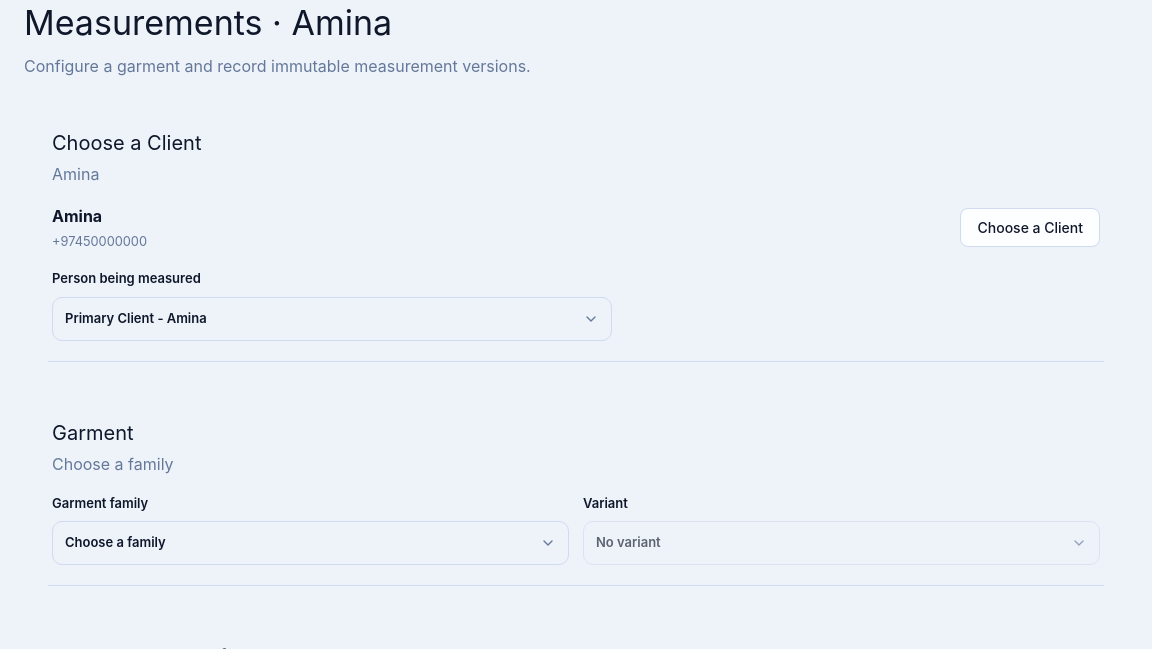
Client Measurement workflow › requires a user-selected unit before it saves a measurement version
Click the button with aria-label "Garment family" at [115, 542], box [52,521,569,565]
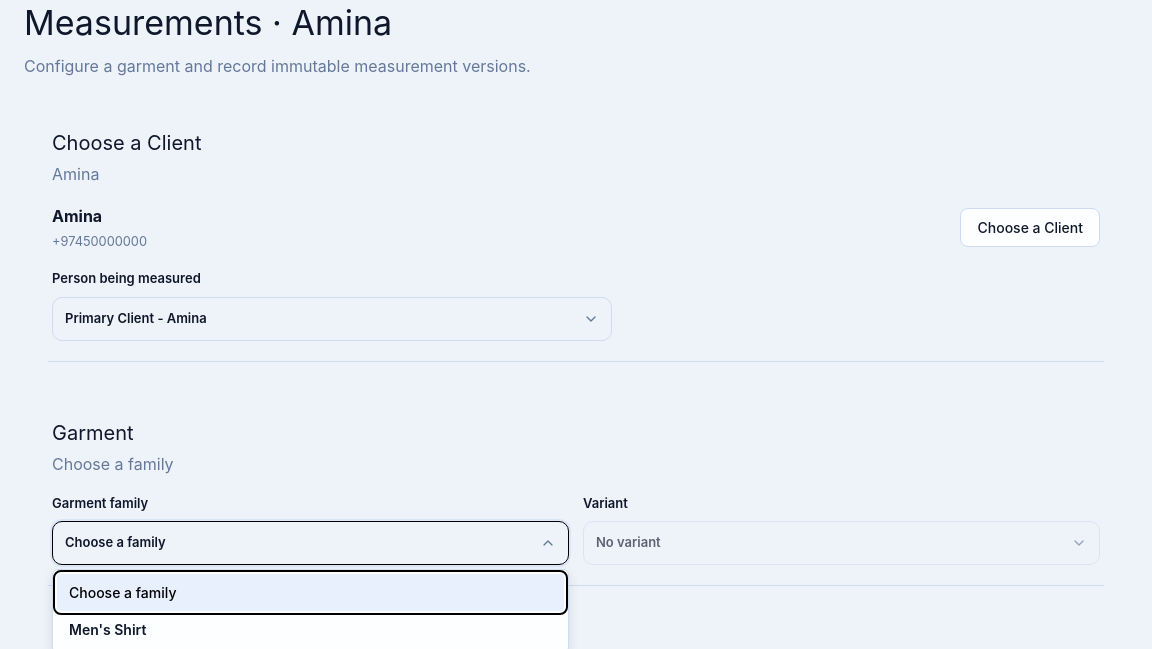
Click the option "Men's Shirt" at [108, 630], box [57,611,564,648]
(page scrolled)
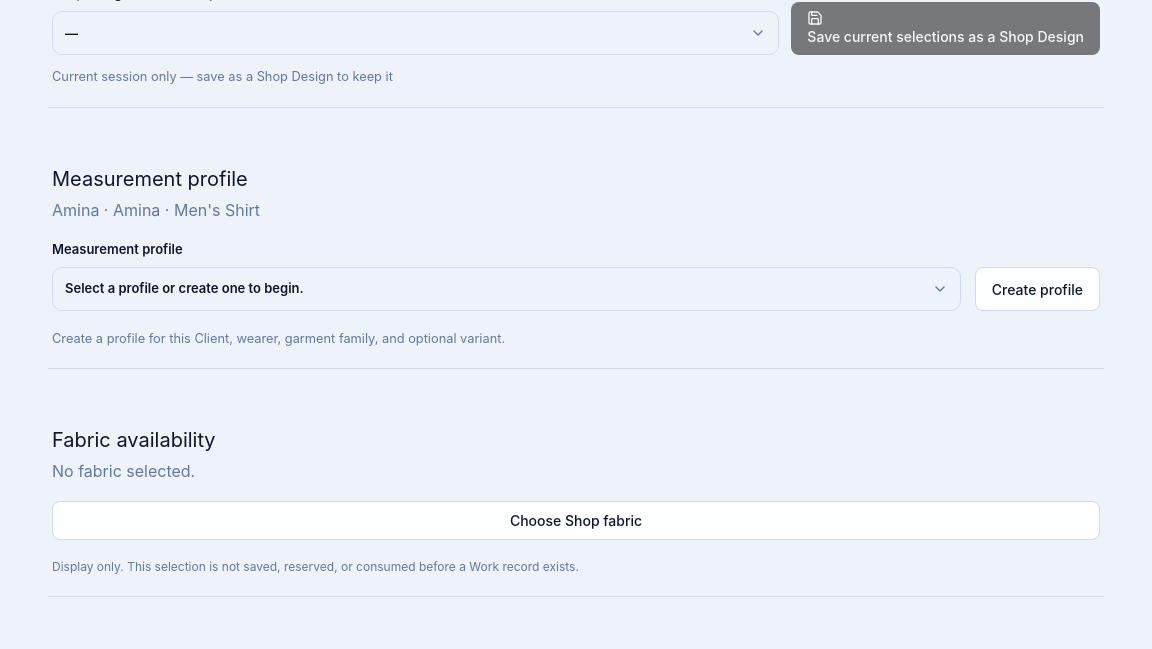
Click the button "Create profile" at [1037, 289], box [975,267,1100,311]
(page scrolled)
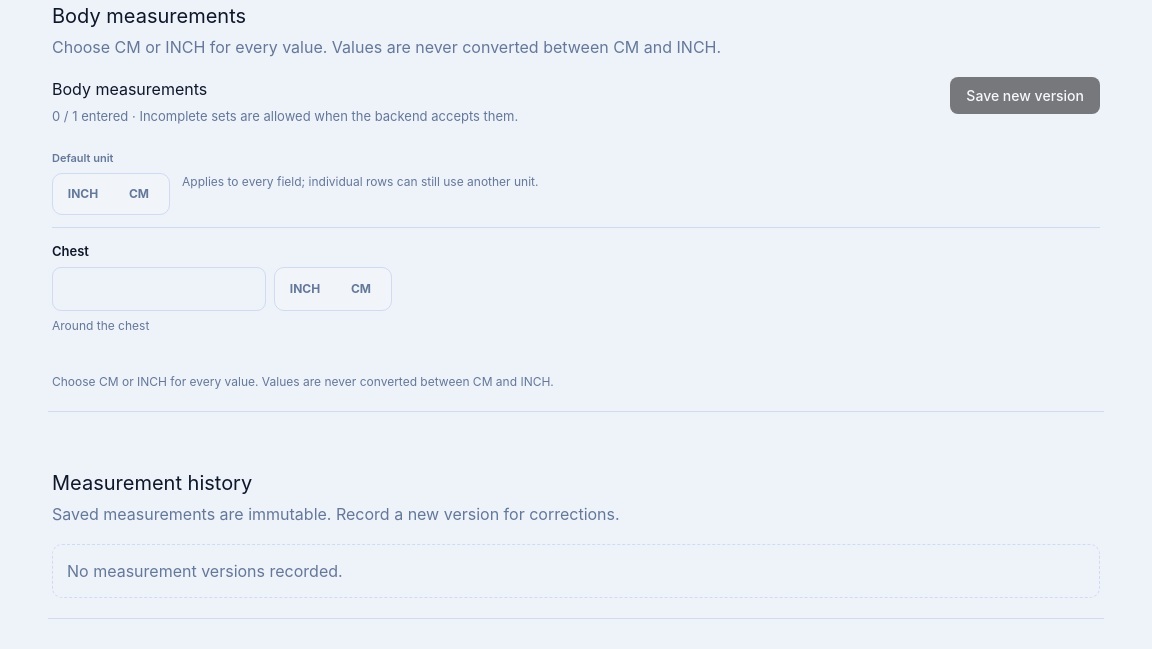
Type "61.2500" into the field labelled "Chest" at [159, 289], box [52,267,266,311]
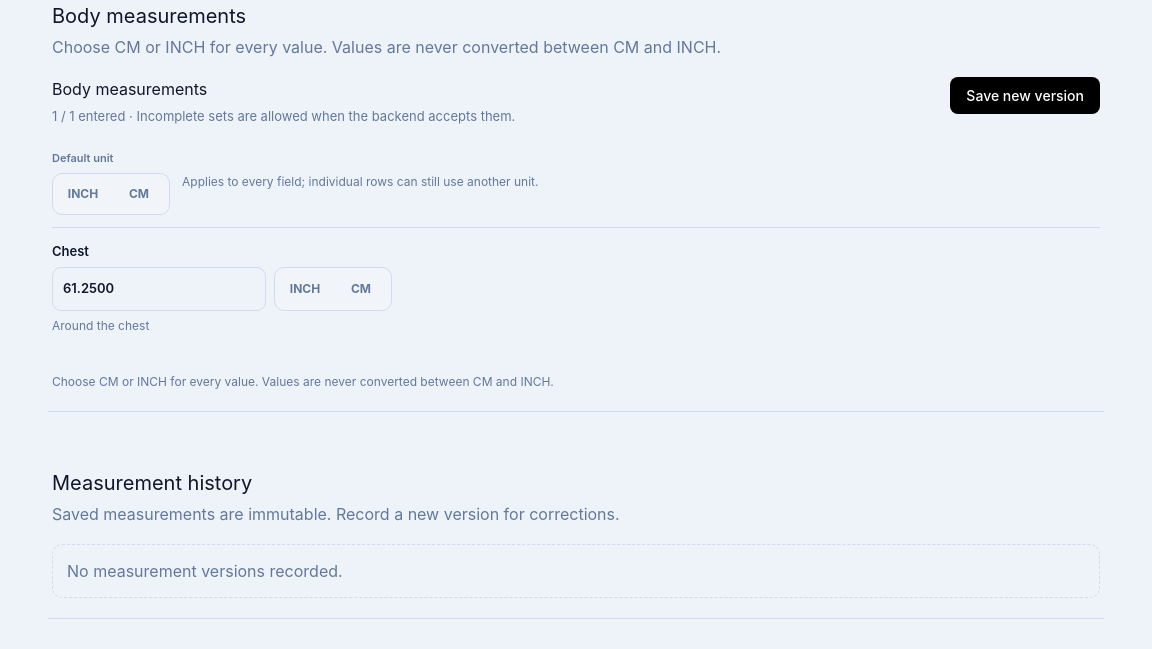
Click the button "Save new version" at [1025, 95], box [950,77,1100,114]
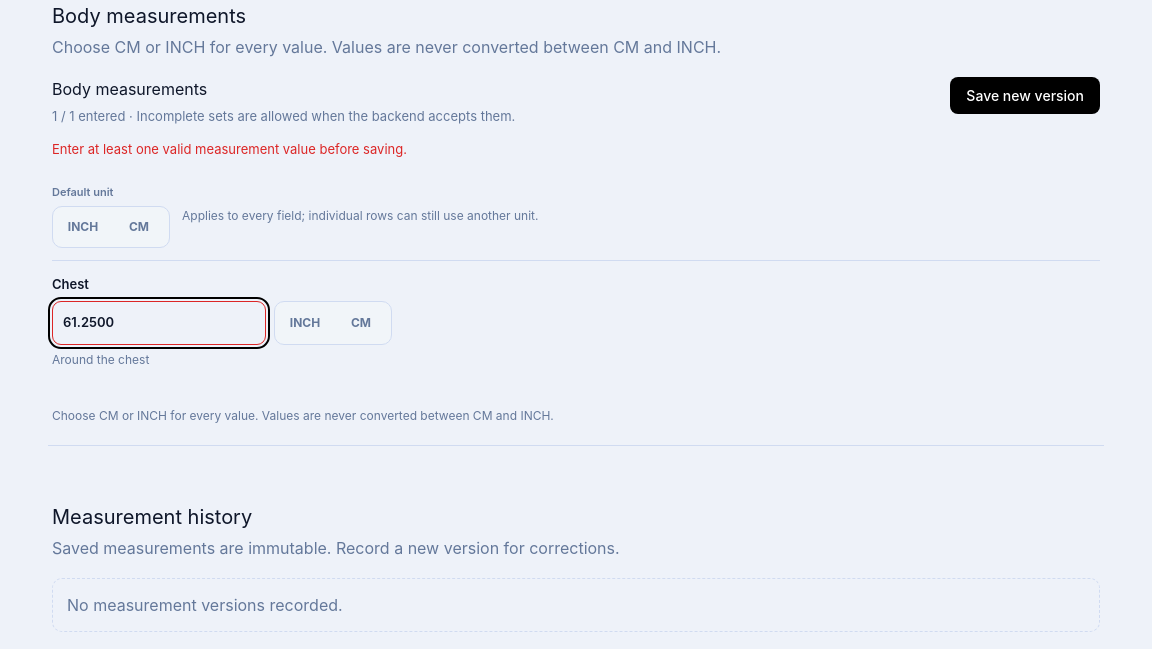
Expected: the message reads "Enter at least one valid measurement value before saving.", [52,141,407,157]
